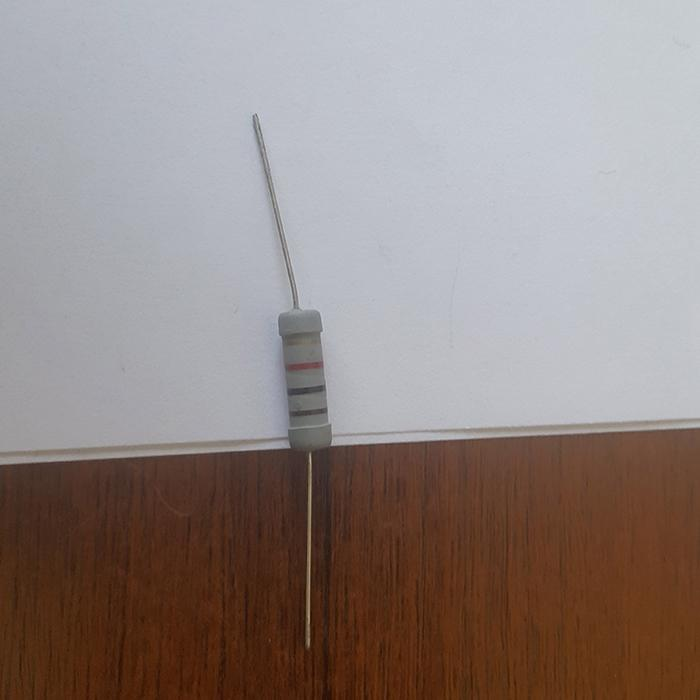resistor: (276, 305, 334, 451)
